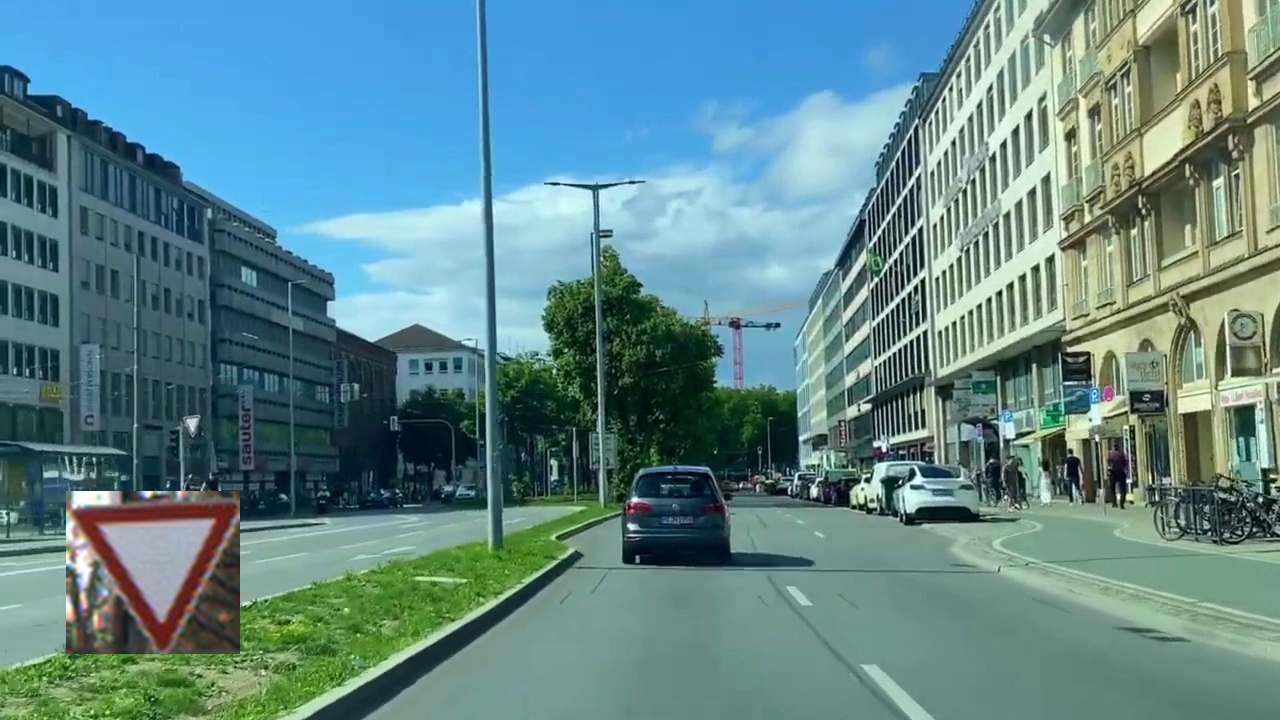Yield: (66, 491, 240, 654)
